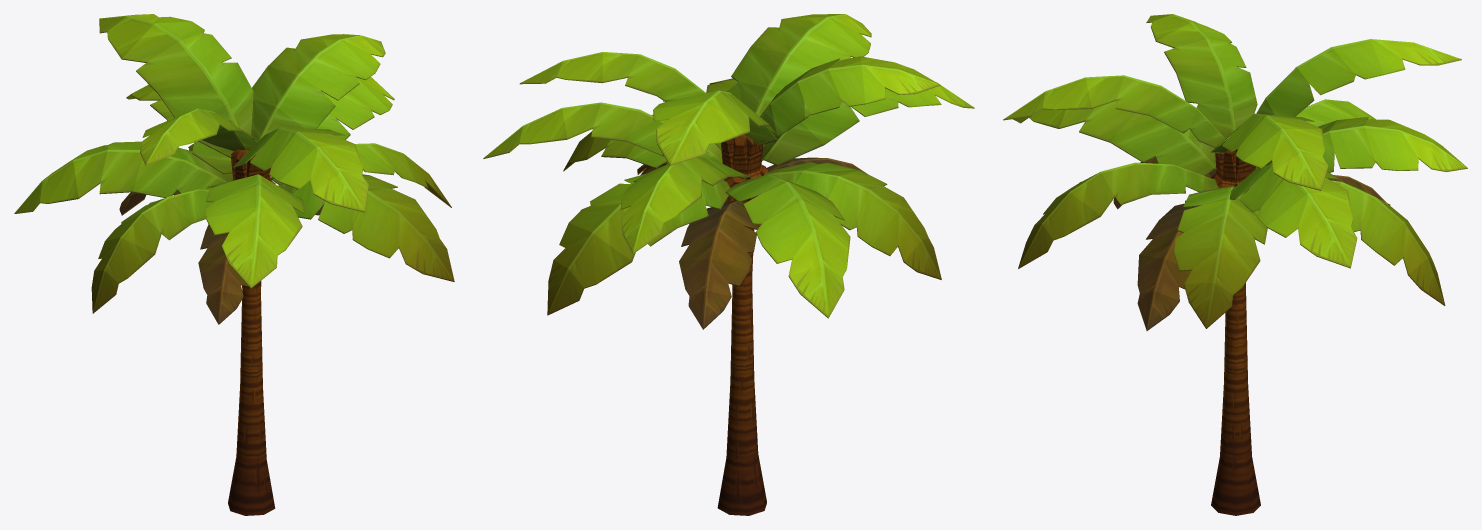
Rendered from CoconutTreeFoliageExtrude.FBX.
The picture shows the model from 3 angles, left to right: view 1: azimuth 30°, elevation 25°; view 2: azimuth 150°, elevation 25°; view 3: azimuth 270°, elevation 25°; orthographic projection. The views are drawn at different scales.
Parts seen in each view (by area): view 1: Foliage, Trunk; view 2: Foliage, Trunk; view 3: Foliage, Trunk.
Boxes of the visible parts, left/top/right/bottom form: Foliage: left=14, top=14, right=454, bottom=324; Trunk: left=228, top=149, right=275, bottom=515; Foliage: left=483, top=14, right=974, bottom=329; Trunk: left=717, top=135, right=768, bottom=515; Foliage: left=1003, top=14, right=1467, bottom=330; Trunk: left=1210, top=138, right=1260, bottom=515.
Size of the model in its own units: 0.0436 by 0.0502 by 0.0469.
Materials: 1 (1 with a texture image).
